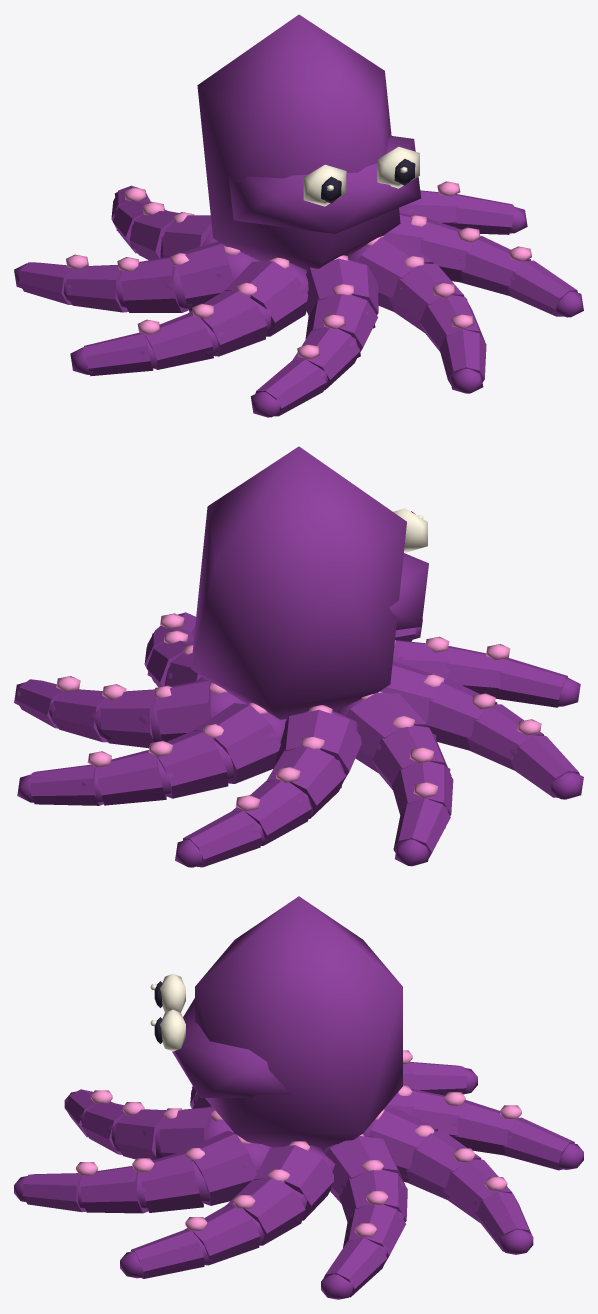
The model's file is hat-t-kraken.glb.
3 renders of one model, top to bottom at view 1: azimuth 30°, elevation 25°; view 2: azimuth 150°, elevation 25°; view 3: azimuth 270°, elevation 25°, orthographic. The views are drawn at different scales.
Visible parts, largest first — view 1: hat_t_kraken@head; view 2: hat_t_kraken@head; view 3: hat_t_kraken@head.
Part boxes in pixels (box(x1,y1,x2,y2)): hat_t_kraken@head: box(14, 14, 583, 417); hat_t_kraken@head: box(14, 446, 583, 867); hat_t_kraken@head: box(14, 896, 583, 1299).
Size of the model in its own units: 0.7979 by 0.45 by 0.8.
